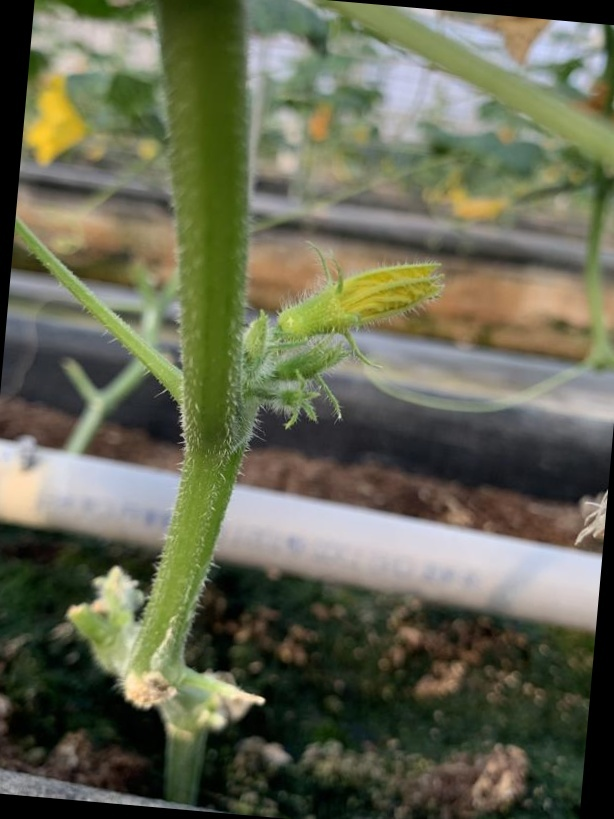bud: (280, 241, 444, 365)
